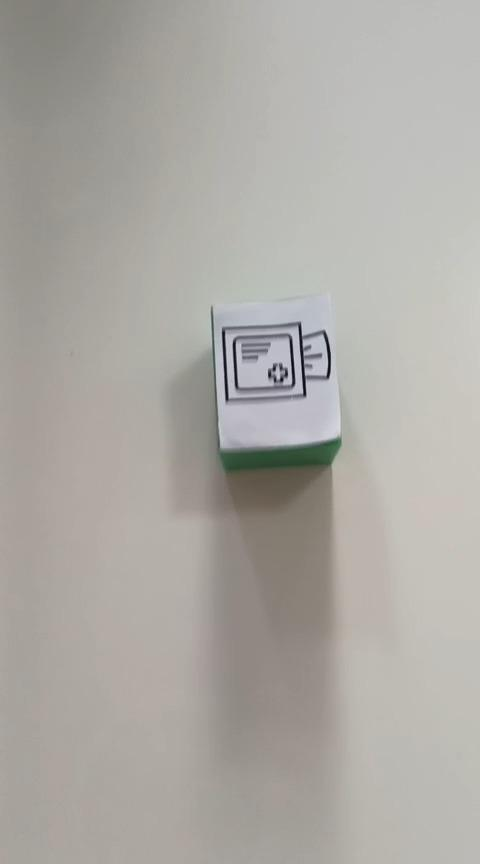Gauze: (209, 291, 342, 470)
